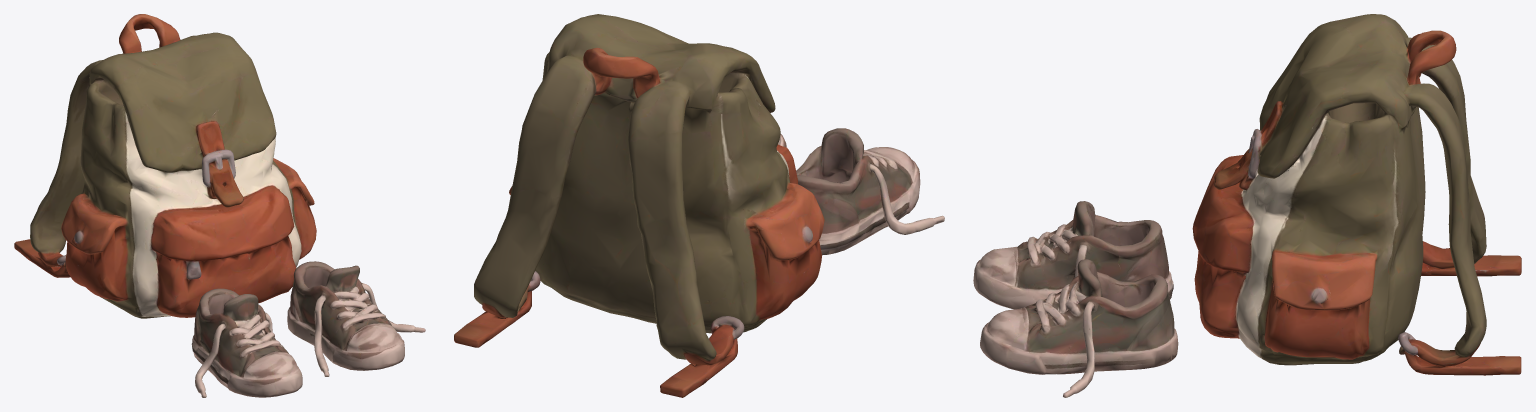
File: backpack.glb
3 renders of one model, left to right at view 1: azimuth 30°, elevation 25°; view 2: azimuth 150°, elevation 25°; view 3: azimuth 270°, elevation 25°, orthographic. The views are drawn at different scales.
Size of the model in its own units: 1.2 by 1.09 by 1.9.
Materials: 1 (1 with a texture image).
